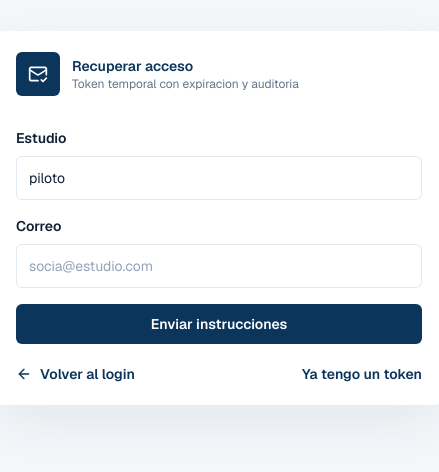
Test: Password reset › requests a password reset without exposing whether the account exists
The width and height of the screenshot is (439, 472).
Type "ljiturri@iturri.com.pe" into the field labelled "Correo" at (219, 266), box [16, 244, 422, 288]
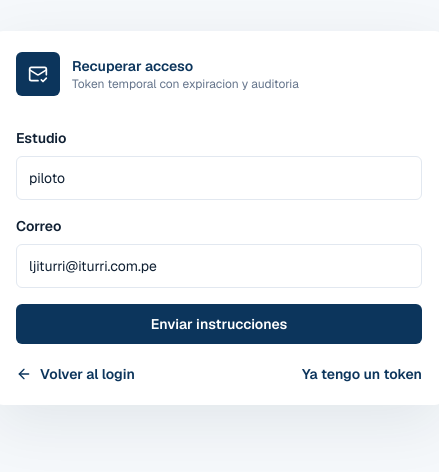
Click the button "Enviar instrucciones" at (219, 324), box [16, 304, 422, 344]
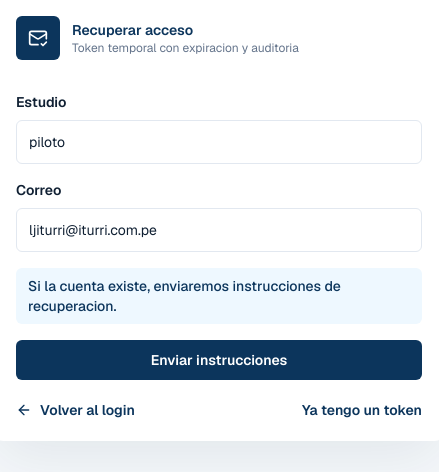
Expected: the text "Si la cuenta existe, enviaremos instrucciones de recuperacion." is shown, [16, 268, 422, 324]
